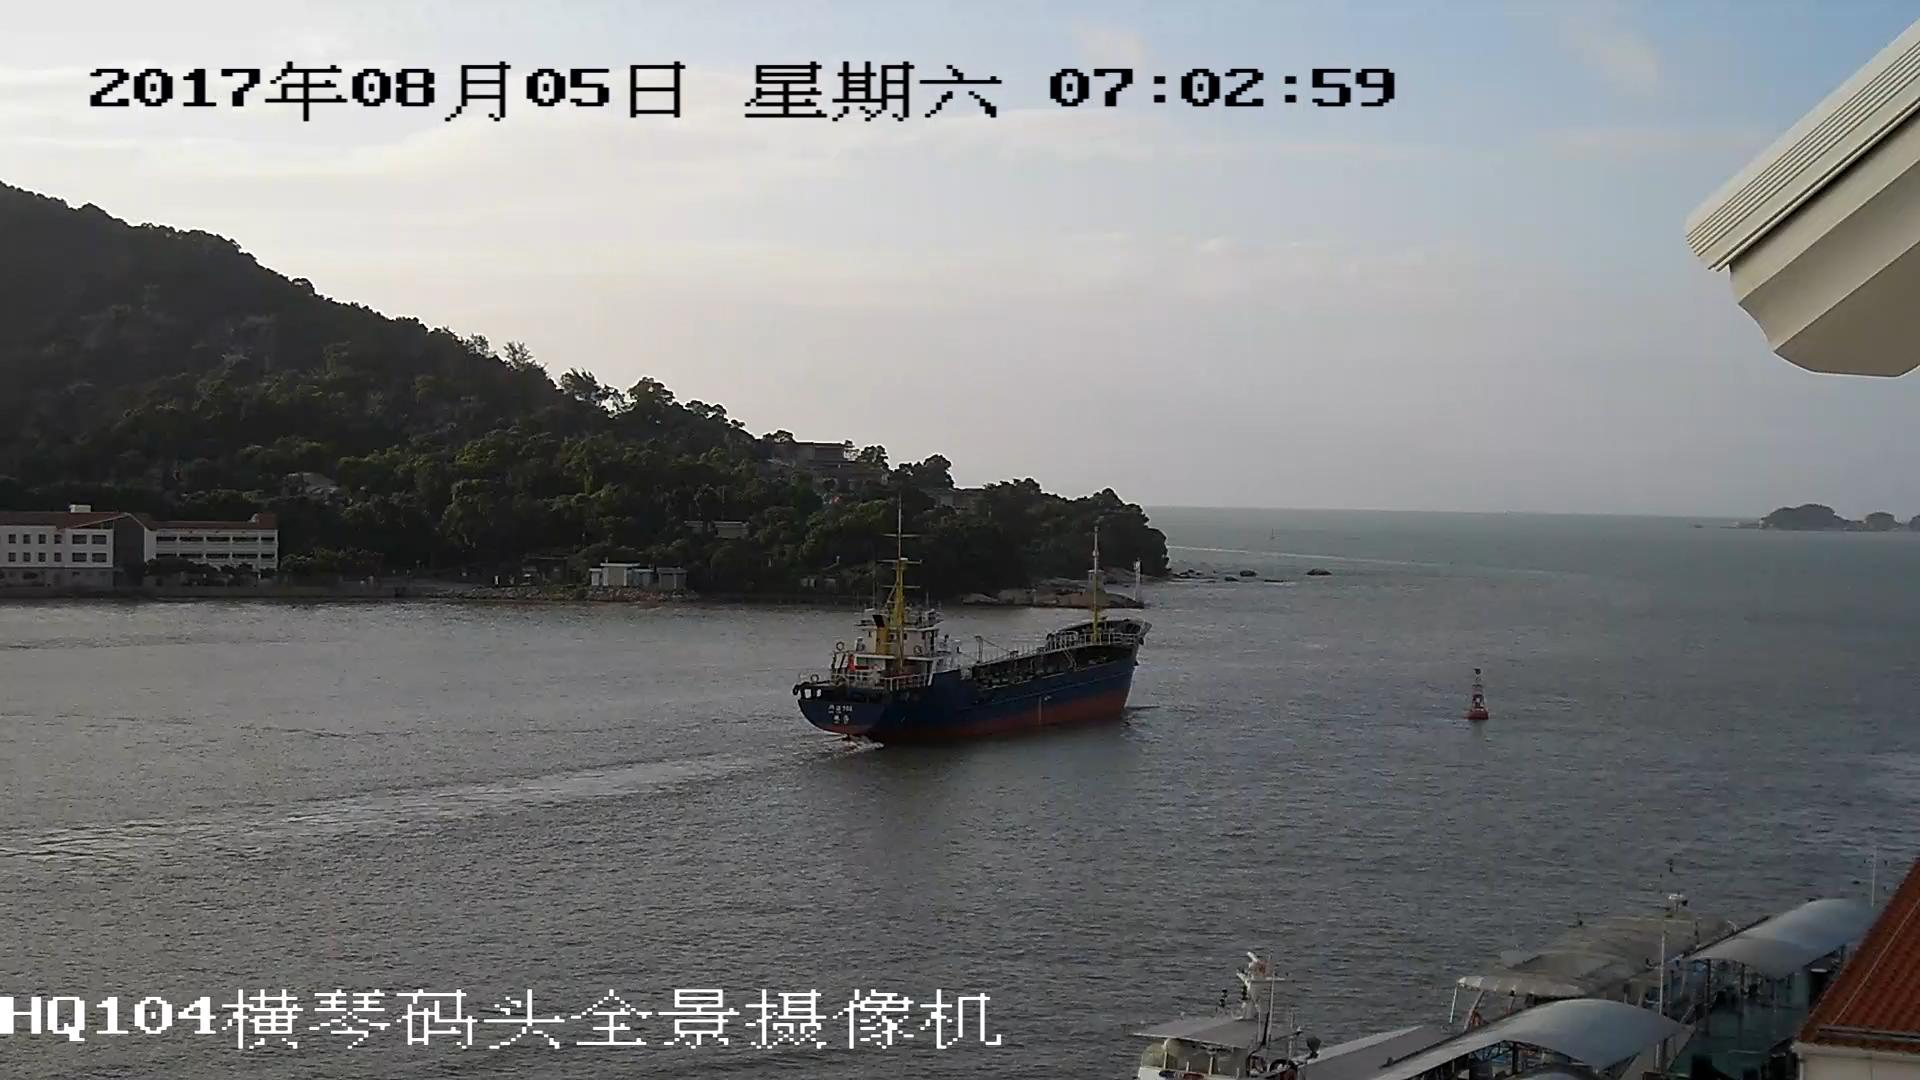Ship: (793, 537, 1155, 746)
